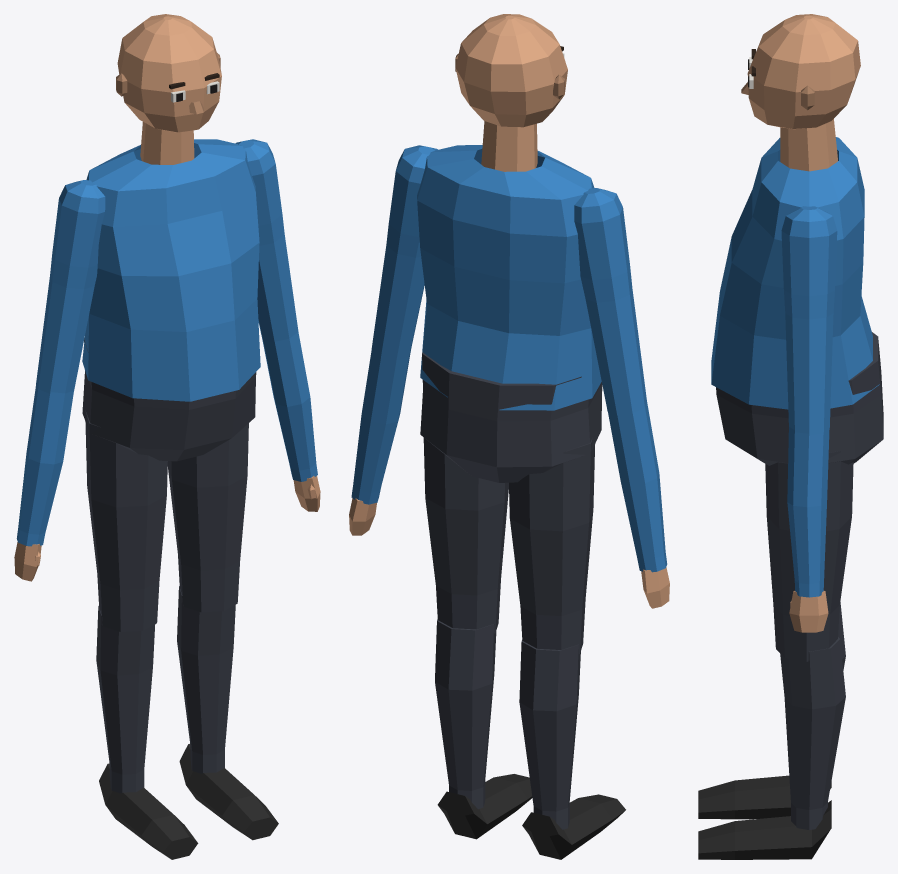
The model's file is ado_h_rond.glb.
The picture shows the model from 3 angles, left to right: view 1: azimuth 30°, elevation 25°; view 2: azimuth 150°, elevation 25°; view 3: azimuth 270°, elevation 25°; orthographic projection. The views are drawn at different scales.
Visible parts, largest first — view 1: torse, jambe_d, tete, tibia_d, tibia_g, jambe_g, bras_d, bassin, avant_bras_d, bras_g, avant_bras_g; view 2: torse, bassin, jambe_d, tete, tibia_d, tibia_g, jambe_g, bras_d, bras_g, avant_bras_d, avant_bras_g; view 3: torse, tibia_g, tete, bras_g, jambe_g, bassin, avant_bras_g, tibia_d.
Part boxes in pixels (x1,y1,x2,y2): torse: (82, 139, 260, 401); jambe_d: (85, 410, 167, 631); tete: (116, 14, 221, 164); tibia_d: (96, 606, 198, 859); tibia_g: (177, 586, 278, 840); jambe_g: (167, 423, 248, 612); bras_d: (36, 180, 105, 393); bassin: (82, 338, 256, 461); avant_bras_d: (14, 386, 73, 581); bras_g: (235, 139, 298, 343); avant_bras_g: (262, 332, 320, 511); torse: (417, 145, 601, 410); bassin: (420, 352, 602, 482); jambe_d: (509, 437, 594, 653); tete: (455, 14, 567, 171); tibia_d: (519, 640, 625, 859); tibia_g: (435, 619, 532, 839); jambe_g: (423, 437, 508, 633); bras_d: (574, 188, 646, 414); bras_g: (371, 145, 437, 360); avant_bras_d: (608, 402, 669, 608); avant_bras_g: (349, 350, 410, 535); torse: (711, 137, 879, 409); tibia_g: (698, 637, 845, 859); tete: (741, 14, 860, 171); bras_g: (781, 206, 837, 434); jambe_g: (765, 451, 853, 661); bassin: (716, 332, 883, 465); avant_bras_g: (787, 427, 829, 632); tibia_d: (698, 602, 845, 819).
Bounding box in the file's own units: 0.6465 × 1.64 × 0.3366.
Materials: 1 (1 with a texture image).
